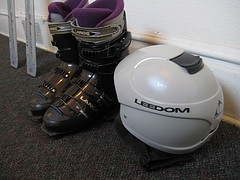helmet: (116, 44, 222, 144)
